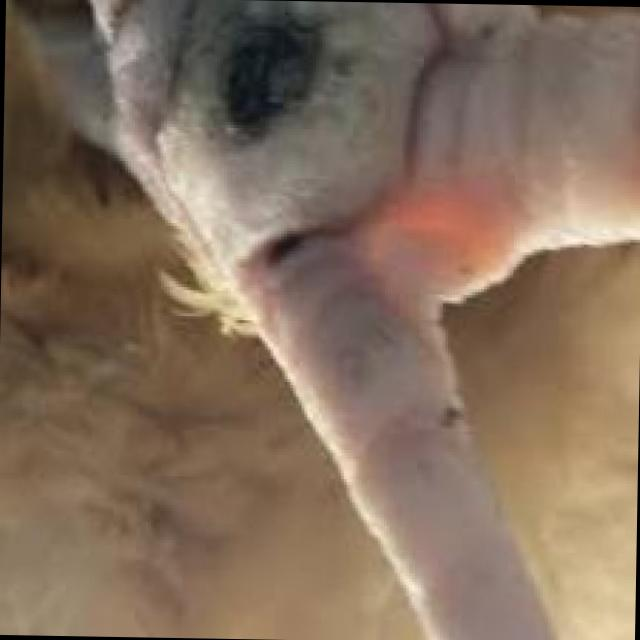Bumble foot: (131, 0, 374, 223)
